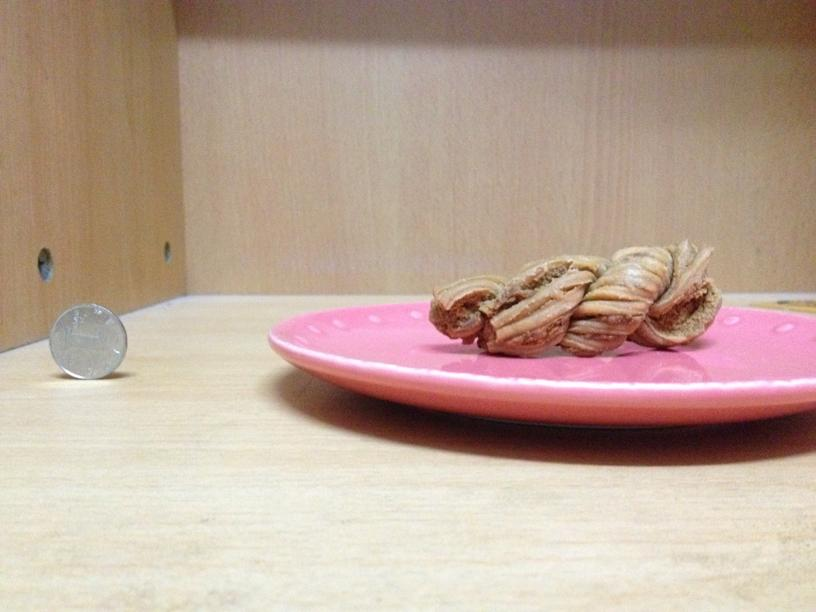coin: (52, 304, 126, 380)
fired_dough_twist: (430, 238, 720, 354)
